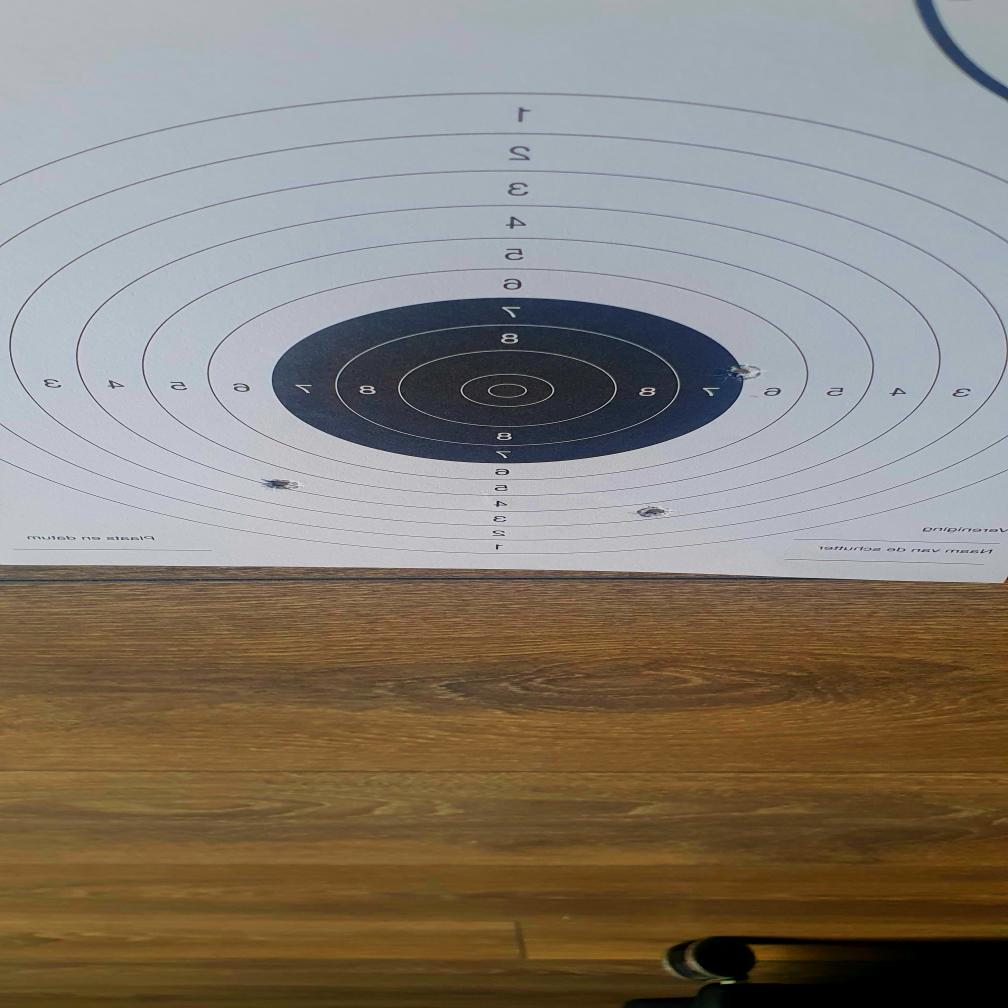3: (626, 505, 681, 520)
4: (261, 479, 306, 492)
7: (714, 363, 766, 382)
Target: (0, 91, 1008, 559)
black_contour: (271, 298, 743, 466)
